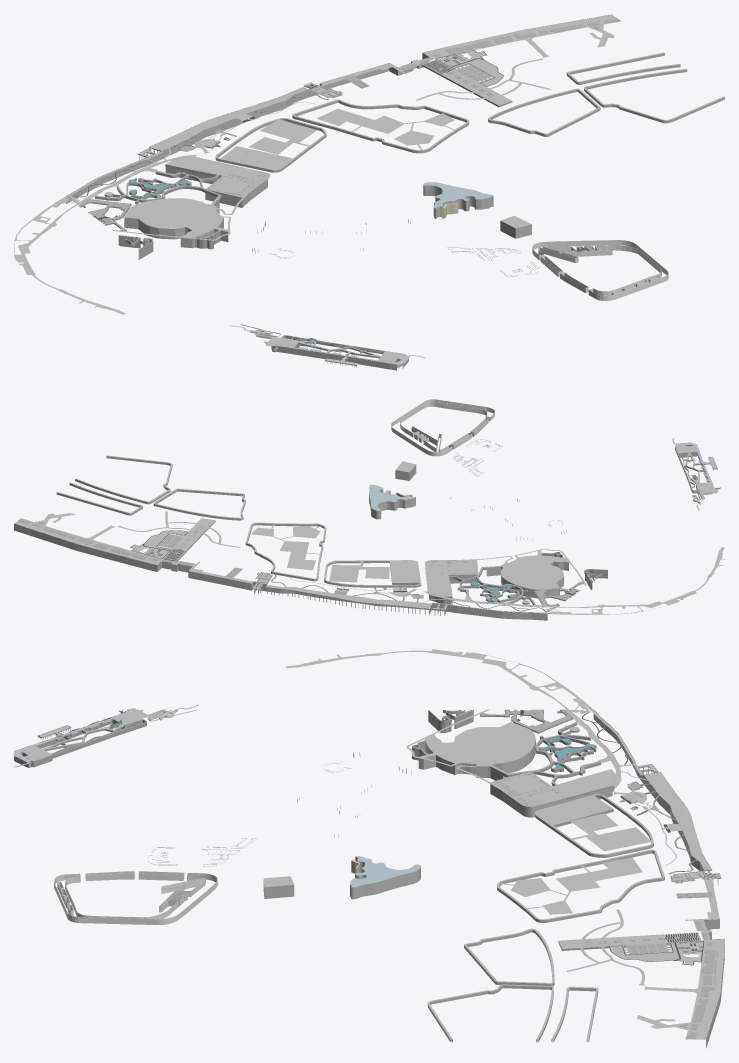
Rendered from lujiazui-0.glb.
The picture shows the model from 3 angles, top to bottom: view 1: azimuth 30°, elevation 25°; view 2: azimuth 150°, elevation 25°; view 3: azimuth 270°, elevation 25°; orthographic projection. The views are drawn at different scales.
Visible parts, largest first — view 1: source_851_PUDI2_part0, source_820_Mat3d66-1303573-292-1195_part0, source_830_Mat3d66-1303573-298-8354_part0, source_821_Mat3d66-1303573-293-7180_part0, source_878_Mat3d66-1303573-300-5709_part0, source_960_Mat3d66-1303573-300-5709_part0, source_1190_Mat3d66-1303573-320-3016_part0, source_819_PUDI2_part0, source_844_Mat3d66-1303573-302-7078_part0, source_818_PUDI2_part0, source_873_Mat3d66-1303573-303-7283_part0, source_850_Mat3d66-1303573-297-3035_part0 (+6 smaller); view 2: source_820_Mat3d66-1303573-292-1195_part0, source_851_PUDI2_part0, source_830_Mat3d66-1303573-298-8354_part0, source_821_Mat3d66-1303573-293-7180_part0, source_1115_Mat3d66-1303573-320-3016_part0, source_960_Mat3d66-1303573-300-5709_part0, source_878_Mat3d66-1303573-300-5709_part0, source_1190_Mat3d66-1303573-320-3016_part0, source_819_PUDI2_part0, source_844_Mat3d66-1303573-302-7078_part0, source_818_PUDI2_part0, source_873_Mat3d66-1303573-303-7283_part0 (+7 smaller); view 3: source_851_PUDI2_part0, source_820_Mat3d66-1303573-292-1195_part0, source_830_Mat3d66-1303573-298-8354_part0, source_878_Mat3d66-1303573-300-5709_part0, source_960_Mat3d66-1303573-300-5709_part0, source_821_Mat3d66-1303573-293-7180_part0, source_819_PUDI2_part0, source_844_Mat3d66-1303573-302-7078_part0, source_818_PUDI2_part0, source_873_Mat3d66-1303573-303-7283_part0, source_850_Mat3d66-1303573-297-3035_part0, source_870_Mat3d66-1303573-307-2100_part0 (+7 smaller).
Part boxes in pixels (x1=…): source_851_PUDI2_part0: x1=124, y1=166, x2=267, y2=248; source_820_Mat3d66-1303573-292-1195_part0: x1=14, y1=50, x2=550, y2=356; source_830_Mat3d66-1303573-298-8354_part0: x1=240, y1=240, x2=668, y2=348; source_821_Mat3d66-1303573-293-7180_part0: x1=488, y1=52, x2=724, y2=136; source_878_Mat3d66-1303573-300-5709_part0: x1=215, y1=99, x2=469, y2=172; source_960_Mat3d66-1303573-300-5709_part0: x1=320, y1=14, x2=620, y2=85; source_1190_Mat3d66-1303573-320-3016_part0: x1=66, y1=90, x2=318, y2=203; source_819_PUDI2_part0: x1=316, y1=108, x2=455, y2=149; source_844_Mat3d66-1303573-302-7078_part0: x1=79, y1=90, x2=302, y2=249; source_818_PUDI2_part0: x1=248, y1=119, x2=316, y2=154; source_873_Mat3d66-1303573-303-7283_part0: x1=149, y1=87, x2=307, y2=150; source_850_Mat3d66-1303573-297-3035_part0: x1=95, y1=170, x2=221, y2=204; source_820_Mat3d66-1303573-292-1195_part0: x1=118, y1=452, x2=724, y2=614; source_851_PUDI2_part0: x1=426, y1=550, x2=568, y2=598; source_830_Mat3d66-1303573-298-8354_part0: x1=391, y1=399, x2=716, y2=526; source_821_Mat3d66-1303573-293-7180_part0: x1=56, y1=455, x2=245, y2=520; source_1115_Mat3d66-1303573-320-3016_part0: x1=14, y1=524, x2=253, y2=590; source_960_Mat3d66-1303573-300-5709_part0: x1=14, y1=513, x2=253, y2=583; source_878_Mat3d66-1303573-300-5709_part0: x1=245, y1=522, x2=421, y2=587; source_1190_Mat3d66-1303573-320-3016_part0: x1=253, y1=582, x2=547, y2=620; source_819_PUDI2_part0: x1=251, y1=523, x2=322, y2=570; source_844_Mat3d66-1303573-302-7078_part0: x1=267, y1=552, x2=582, y2=607; source_818_PUDI2_part0: x1=329, y1=561, x2=389, y2=582; source_873_Mat3d66-1303573-303-7283_part0: x1=266, y1=585, x2=431, y2=608; source_851_PUDI2_part0: x1=418, y1=722, x2=567, y2=817; source_820_Mat3d66-1303573-292-1195_part0: x1=42, y1=649, x2=704, y2=984; source_830_Mat3d66-1303573-298-8354_part0: x1=54, y1=709, x2=351, y2=924; source_878_Mat3d66-1303573-300-5709_part0: x1=497, y1=794, x2=664, y2=922; source_960_Mat3d66-1303573-300-5709_part0: x1=637, y1=879, x2=724, y2=1039; source_821_Mat3d66-1303573-293-7180_part0: x1=427, y1=928, x2=598, y2=1042; source_819_PUDI2_part0: x1=499, y1=857, x2=642, y2=914; source_844_Mat3d66-1303573-302-7078_part0: x1=412, y1=709, x2=709, y2=869; source_818_PUDI2_part0: x1=570, y1=813, x2=651, y2=851; source_873_Mat3d66-1303573-303-7283_part0: x1=644, y1=772, x2=711, y2=870; source_850_Mat3d66-1303573-297-3035_part0: x1=502, y1=721, x2=601, y2=785; source_870_Mat3d66-1303573-307-2100_part0: x1=534, y1=711, x2=718, y2=1039.
Size of what is drawn, in the model's own units: 1776 by 37.39 by 1367.
